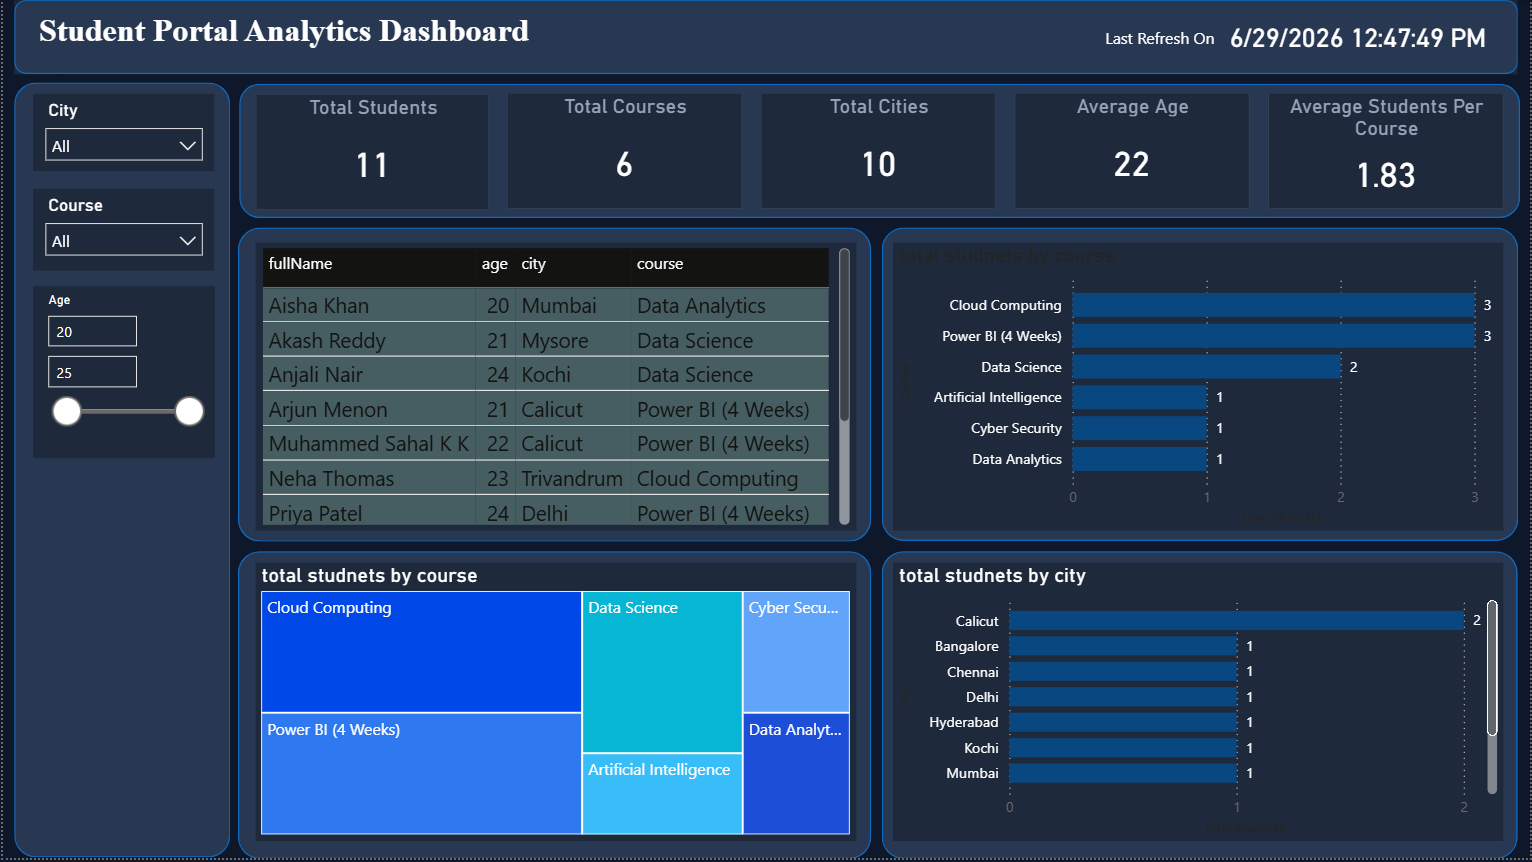

Layout of this report page (visuals, bound fields, positions):
{"tool":"powerbi","page":{"name":"Page 1","canvas":[1280,720],"ordinal":0},"visuals":[{"type":"shape","box":[9.6,0,1261.1,62],"z":0},{"type":"shape","box":[197.9,70,1074.2,112.5],"z":1000},{"type":"shape","box":[9.6,69.2,181.1,649.9],"z":2000},{"type":"shape","box":[197.6,190.7,531,263.5],"z":3000},{"type":"shape","box":[736.9,190.7,533.8,262.9],"z":4000},{"type":"shape","box":[197.6,462,531,258],"z":5000},{"type":"shape","box":[737.4,462.4,533.2,258],"z":6000},{"type":"card","title":"Total Students ","fields":{"Values":["Table.total studnets"]},"box":[211.3,78.2,196.2,97.4],"z":7000},{"type":"card","title":"Total Courses","fields":{"Values":["Table.Total Courses"]},"box":[422.6,78,197.6,97.4],"z":8000},{"type":"card","title":"Total Cities","fields":{"Values":["Table.Total city"]},"box":[635.3,78,197.6,97.4],"z":9000},{"type":"card","title":"Average Age","fields":{"Values":["Table.Avarage Students"]},"box":[848,78,197.6,97.4],"z":10000},{"type":"card","title":"Average Students Per Course","fields":{"Values":["Table.Avg Students per Course"]},"box":[1060.7,77.4,197.6,97.4],"z":11000},{"type":"textbox","box":[24.7,5.5,642.2,52.1],"z":12000},{"type":"tableEx","fields":{"Values":["students.fullName","students.age","students.city","students.course"]},"box":[211.3,203.1,503.6,241.5],"z":13000},{"type":"barChart","fields":{"Category":["students.course"],"Y":["Table.total studnets"]},"box":[746.5,203.1,511.8,241.5],"z":14000},{"type":"treemap","fields":{"Group":["students.course"],"Values":["Table.total studnets"]},"box":[211.3,472,503.6,233.3],"z":15000},{"type":"barChart","fields":{"Category":["students.city"],"Y":["Table.total studnets"]},"box":[746.5,472,511.8,233.3],"z":16000},{"type":"slicer","fields":{"Values":["students.city"]},"box":[24.7,78.2,152.3,64.5],"z":17000},{"type":"slicer","fields":{"Values":["students.course"]},"box":[24.7,157.8,152.3,68.6],"z":18000},{"type":"slicer","fields":{"Values":["students.age"]},"box":[24.7,240.1,152.3,144.1],"z":19000},{"type":"card","fields":{"Values":["Min(Last Refresh.Last Refresh)"]},"box":[1016.8,5.5,238.8,52.1],"z":20000},{"type":"textbox","box":[919.4,17.8,126.2,27.4],"z":21000}]}

Visuals, with their boxes in screenshot pixels (x1, y1, x2, y2), scaled from the page's 1280x720 canvas onto the 1532x862 screenshot:
shape: (11, 0, 1521, 74)
shape: (237, 84, 1523, 218)
shape: (11, 83, 228, 861)
shape: (237, 228, 872, 544)
shape: (882, 228, 1521, 543)
shape: (237, 553, 872, 861)
shape: (883, 554, 1521, 861)
"Total Students " card: (253, 94, 488, 210)
"Total Courses" card: (506, 93, 742, 210)
"Total Cities" card: (760, 93, 997, 210)
"Average Age" card: (1015, 93, 1251, 210)
"Average Students Per Course" card: (1270, 93, 1506, 209)
textbox: (30, 7, 798, 69)
tableEx - students.fullName x students.age: (253, 243, 856, 532)
barChart - students.course x Table.total studnets: (893, 243, 1506, 532)
treemap - students.course x Table.total studnets: (253, 565, 856, 844)
barChart - students.city x Table.total studnets: (893, 565, 1506, 844)
slicer - students.city: (30, 94, 212, 171)
slicer - students.course: (30, 189, 212, 271)
slicer - students.age: (30, 287, 212, 460)
card - Min(Last Refresh.Last Refresh): (1217, 7, 1503, 69)
textbox: (1100, 21, 1251, 54)
